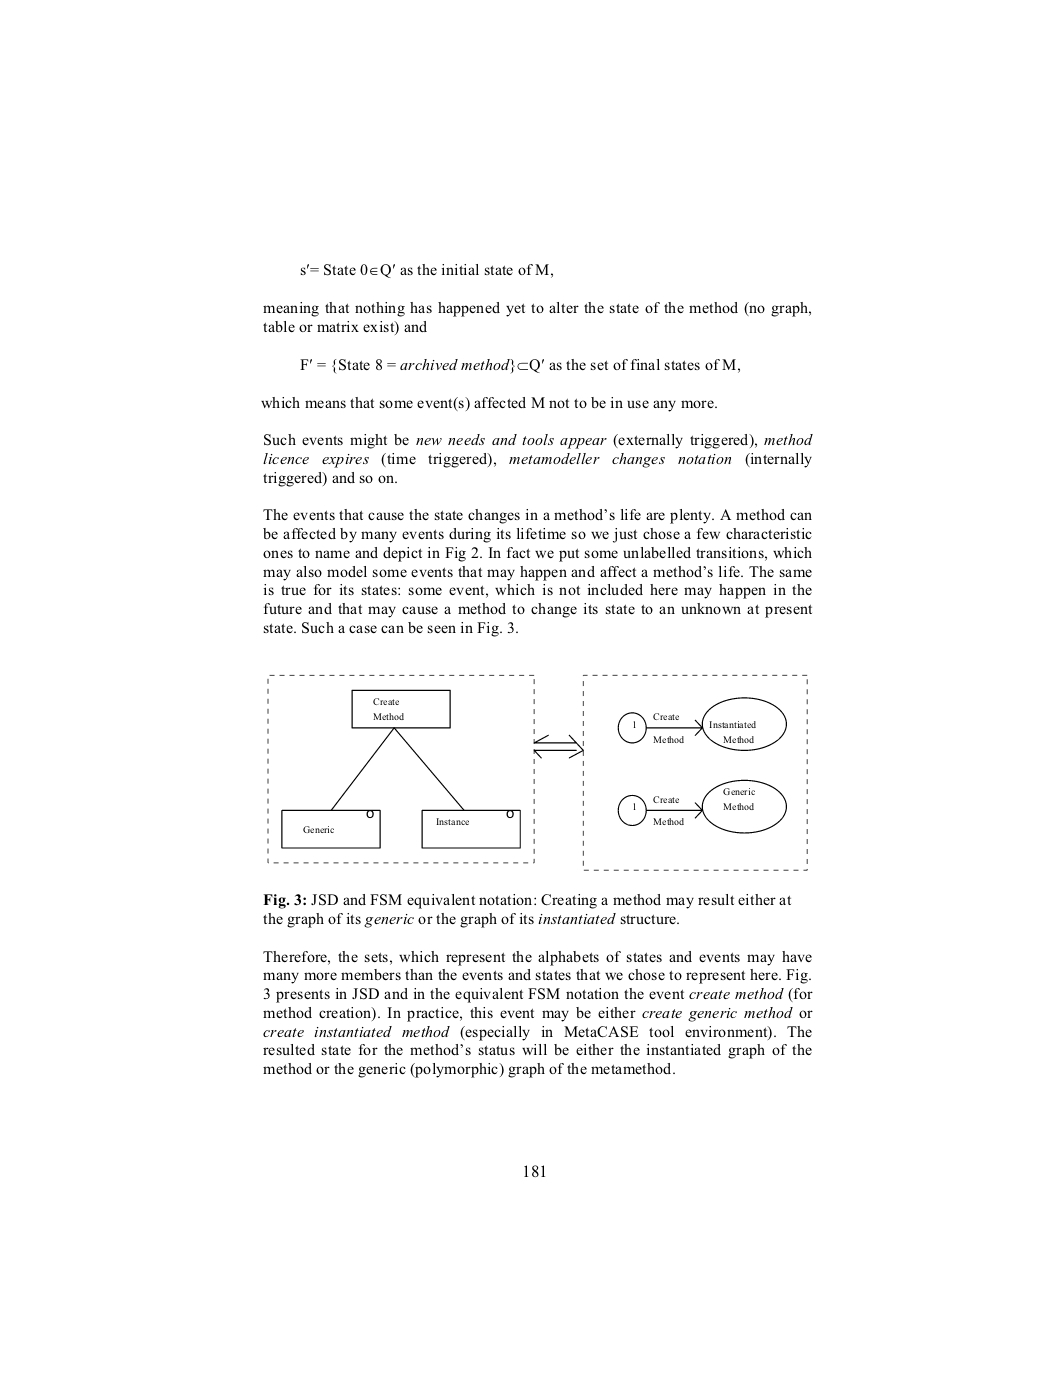figure: (267, 674, 807, 870)
formula: (300, 358, 740, 374), (300, 262, 553, 277)
